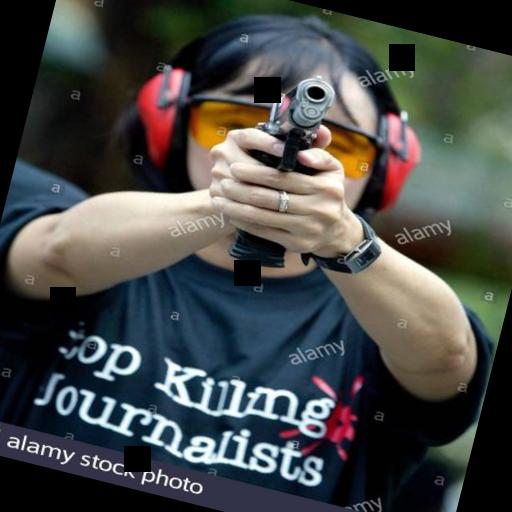Handgun: (200, 60, 366, 284)
